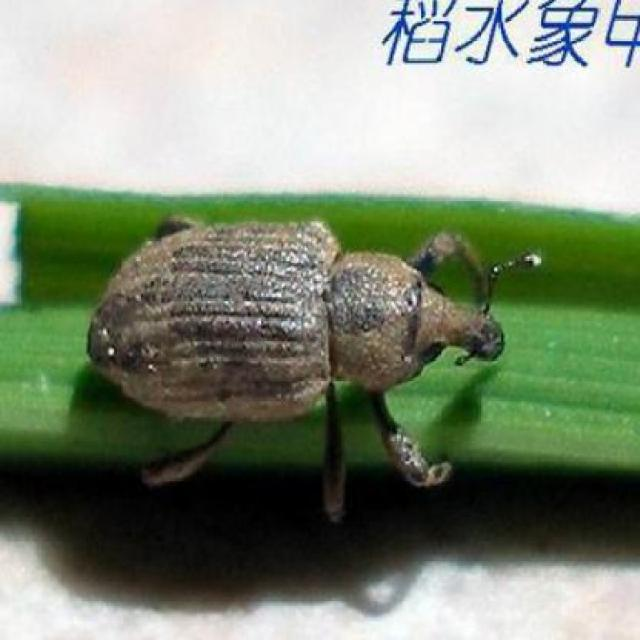rice-bug: (90, 208, 510, 486)
